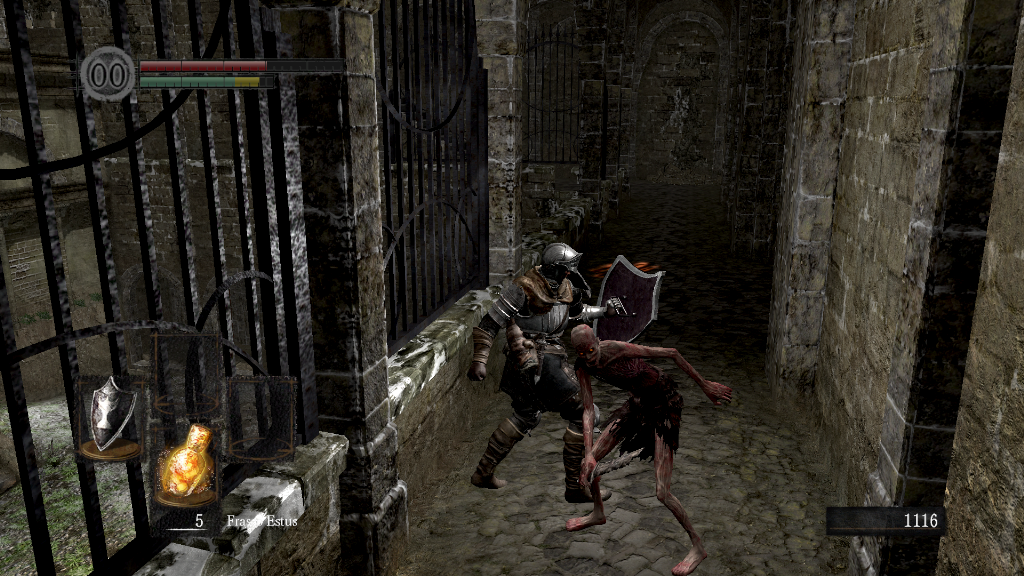health: (138, 58, 343, 71)
hollow: (564, 320, 735, 576)
humanity: (80, 45, 136, 102)
player: (468, 243, 667, 501)
souls: (825, 506, 945, 536)
stamina: (138, 74, 274, 88)
